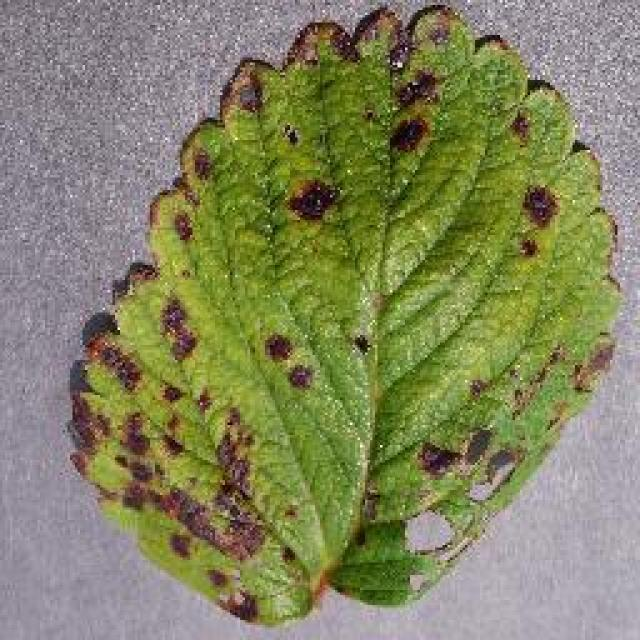Strawberry leaf scorch: (95, 64, 510, 554)
